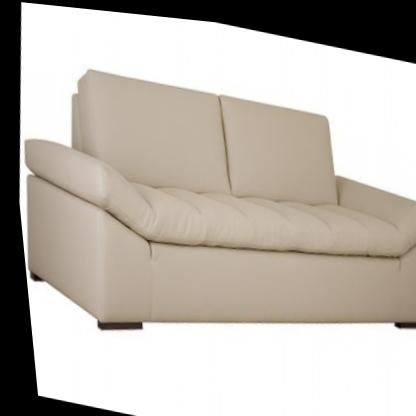Sofa: (4, 49, 416, 393)
